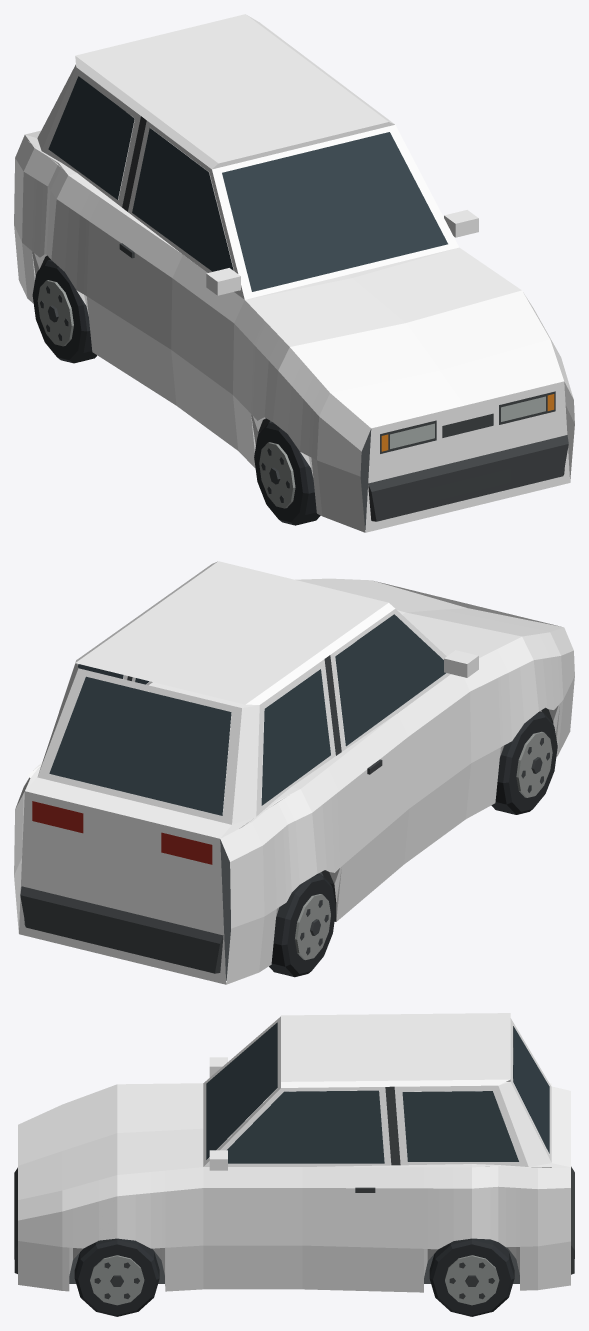
Rendered from mizuchi_hanabi.glb.
3 views of the same model, one above another, from view 1: azimuth 30°, elevation 25°; view 2: azimuth 150°, elevation 25°; view 3: azimuth 270°, elevation 25° (orthographic). The views are drawn at different scales.
Parts seen in each view (by area): view 1: mizuchi_hanabi; view 2: mizuchi_hanabi; view 3: mizuchi_hanabi.
Part boxes in pixels (box(x1,y1,x2,y2)): mizuchi_hanabi: box(14, 14, 574, 532); mizuchi_hanabi: box(14, 561, 574, 984); mizuchi_hanabi: box(14, 1013, 574, 1316).
Size of the model in its own units: 1.6 by 1.6 by 3.65.
8 materials, 1 textured.
